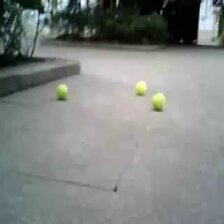tennis: (151, 92, 164, 109), (135, 82, 147, 96), (57, 84, 66, 96)
